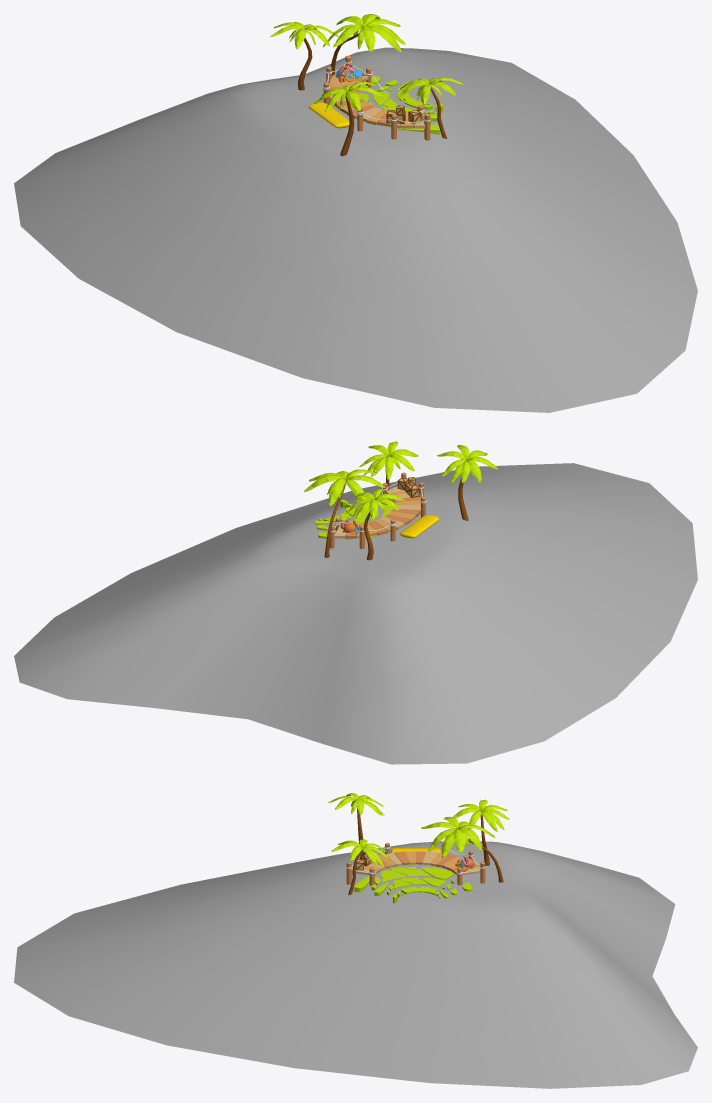
Rendered from TestQuay.fbx.
The picture shows the model from 3 angles, top to bottom: view 1: azimuth 30°, elevation 25°; view 2: azimuth 150°, elevation 25°; view 3: azimuth 270°, elevation 25°; orthographic projection. The views are drawn at different scales.
Visible parts, largest first — view 1: pSphere97, polySurface3041, polySurface3055, polySurface3043, pCylinder174, polySurface3045, polySurface3039; view 2: pSphere97, polySurface3055, polySurface3041, polySurface3043, polySurface3039, polySurface3045, pCylinder174; view 3: pSphere97, polySurface3055, polySurface3041, Suelo_patron, polySurface3045, polySurface3039, Suelo_patron1, polySurface3043, pCylinder174.
Boxes of the visible parts, box(x1,y1,x2,y2) form: pSphere97: box(14, 47, 697, 412); polySurface3041: box(323, 14, 405, 52); polySurface3055: box(329, 70, 425, 128); polySurface3043: box(314, 81, 383, 111); pCylinder174: box(323, 55, 430, 140); polySurface3045: box(270, 22, 338, 49); polySurface3039: box(396, 77, 464, 105); pSphere97: box(14, 463, 697, 764); polySurface3055: box(334, 486, 421, 538); polySurface3041: box(304, 469, 385, 506); polySurface3043: box(437, 445, 498, 483); polySurface3039: box(359, 441, 418, 479); polySurface3045: box(345, 489, 404, 520); pCylinder174: box(329, 472, 425, 549); pSphere97: box(14, 841, 697, 1088); polySurface3055: box(351, 851, 480, 875); polySurface3041: box(421, 817, 494, 858); Suelo_patron: box(354, 866, 472, 892); polySurface3045: box(453, 799, 509, 831); polySurface3039: box(331, 839, 389, 866); Suelo_patron1: box(374, 877, 457, 896); polySurface3043: box(328, 793, 384, 815); pCylinder174: box(346, 843, 485, 885).
Size of the model in its own units: 13083 by 4114 by 16435.
